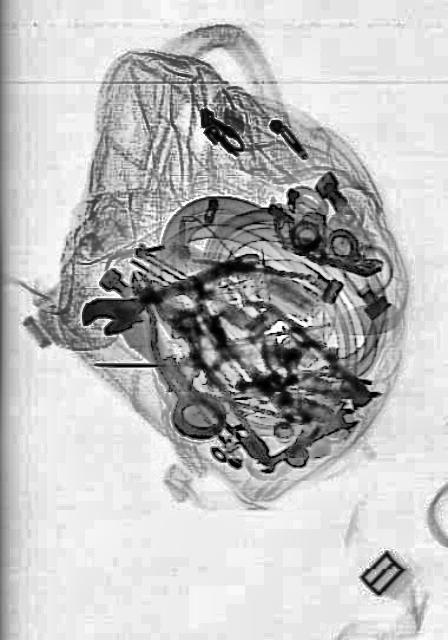Pliers: (114, 251, 218, 414), (174, 344, 278, 480)
Wrench: (78, 234, 264, 346), (253, 402, 359, 476)
